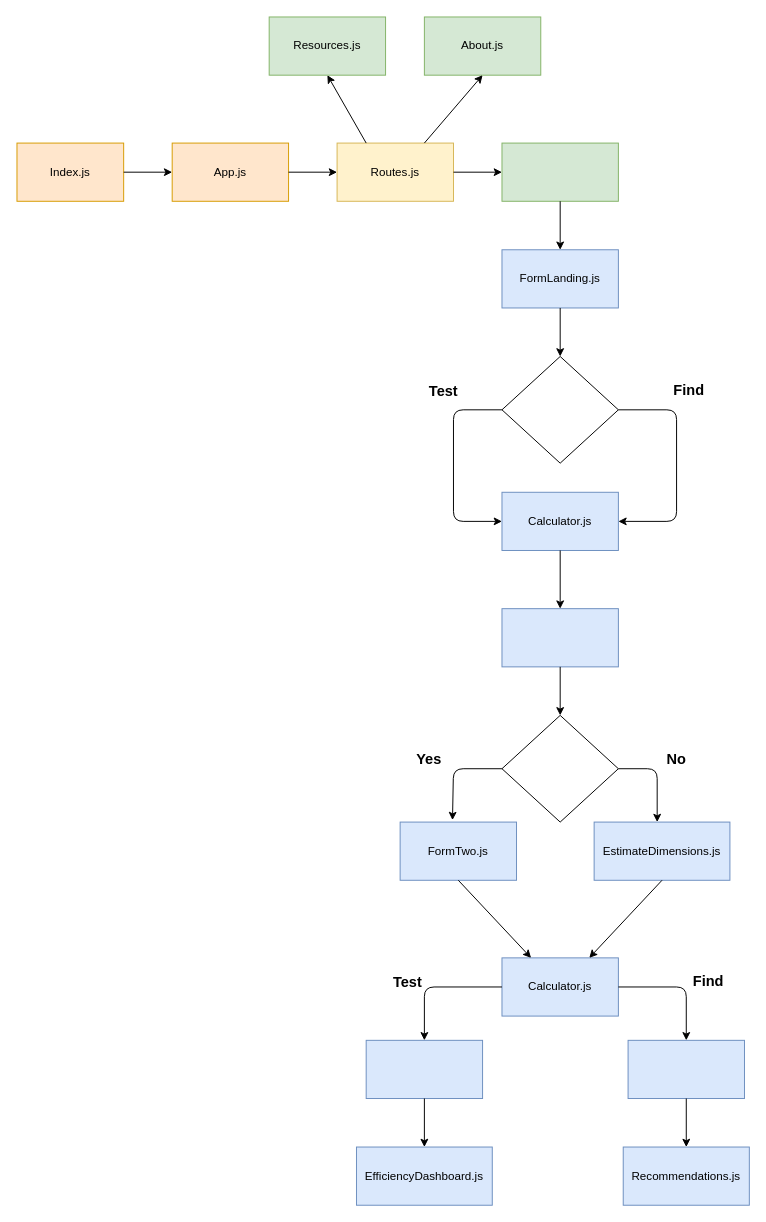
Some shapes in this 766 by 1222 pixel diagram are drawn without their labels. Here are the shapes that lost their labels. From the top down, the centre of each, then its label:
At [559,171]: "Home.js".
At [559,409]: "Test or find air cleaner".
At [559,637]: "FormOne.js".
At [559,768]: "User knows room dimensions?".
At [424,1069]: "FormThree.js".
At [685,1069]: "FormOverview.js".
